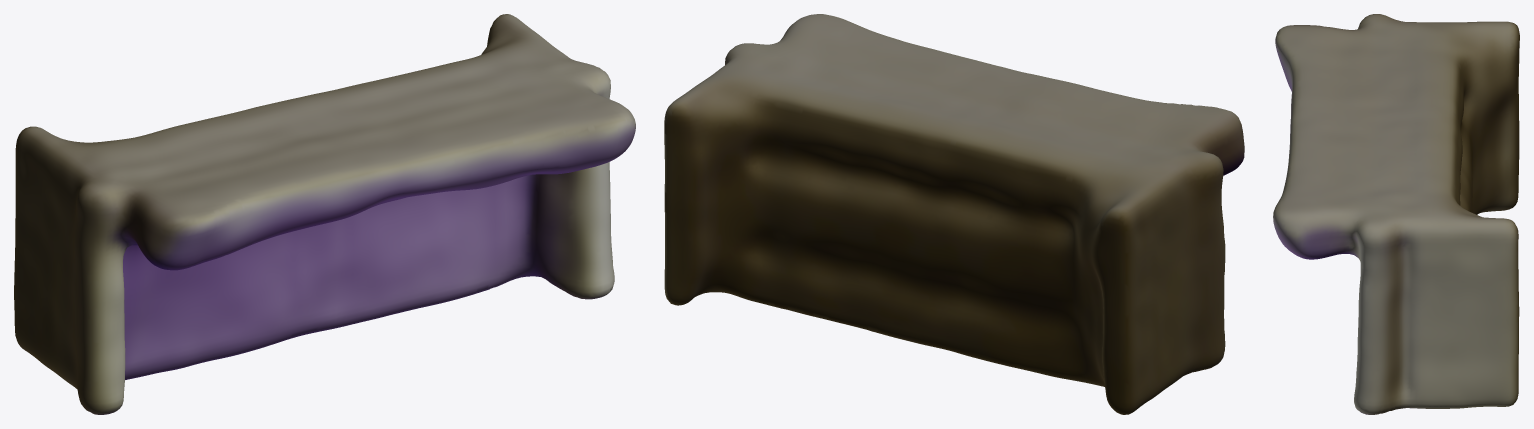
Rendered from sofa.glb.
The picture shows the model from 3 angles, left to right: view 1: azimuth 30°, elevation 25°; view 2: azimuth 150°, elevation 25°; view 3: azimuth 270°, elevation 25°; orthographic projection. The views are drawn at different scales.
Bounding box in the file's own units: 0.9997 × 0.4217 × 0.4759.
